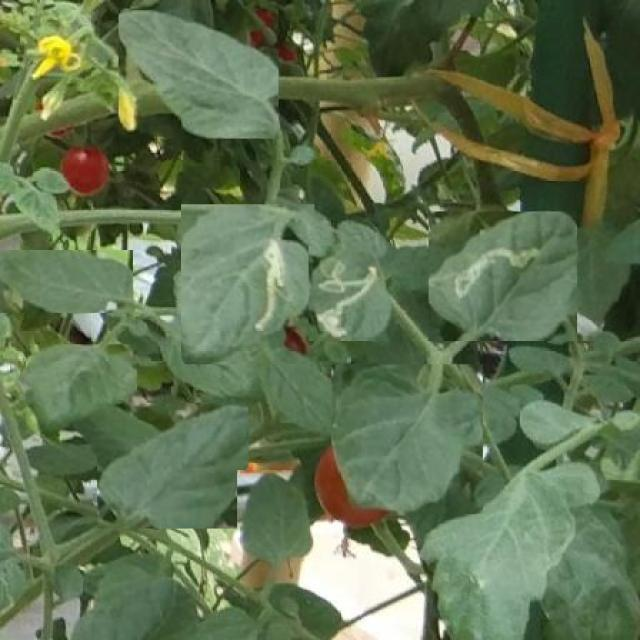Healthy: (332, 364, 482, 514), (120, 8, 280, 138), (97, 403, 249, 528), (26, 344, 137, 434), (0, 250, 133, 314), (237, 471, 314, 562)
Leaf Miner: (180, 205, 314, 365), (429, 211, 577, 340), (308, 246, 392, 340)
